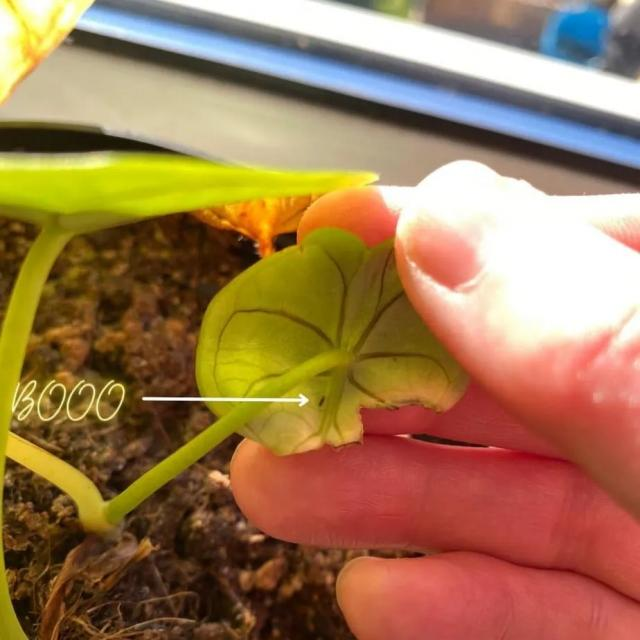Thrip-Adult-: (316, 390, 328, 411)
